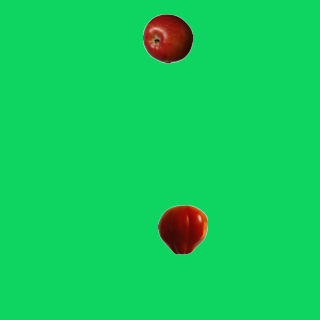Apple Braeburn: (142, 13, 192, 63)
Tomato 1: (157, 204, 207, 254)
